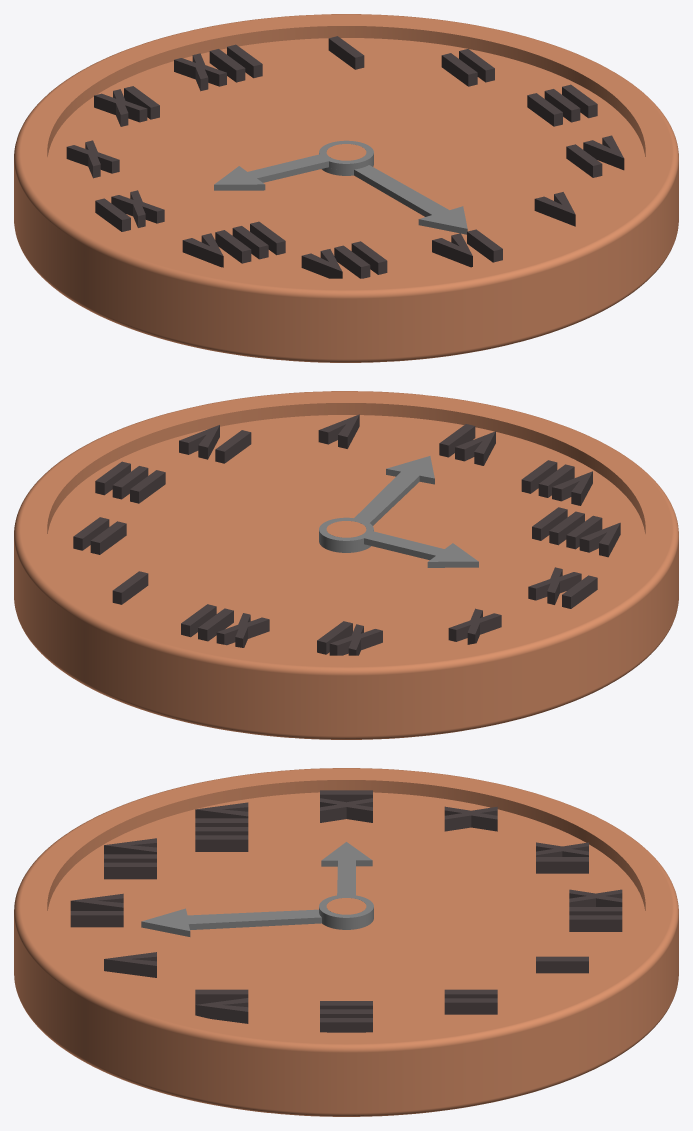
Rendered from clock.glb.
The picture shows the model from 3 angles, top to bottom: view 1: azimuth 30°, elevation 25°; view 2: azimuth 150°, elevation 25°; view 3: azimuth 270°, elevation 25°; orthographic projection.
Bounding box in the file's own units: 0.5 × 0.06 × 0.5.
